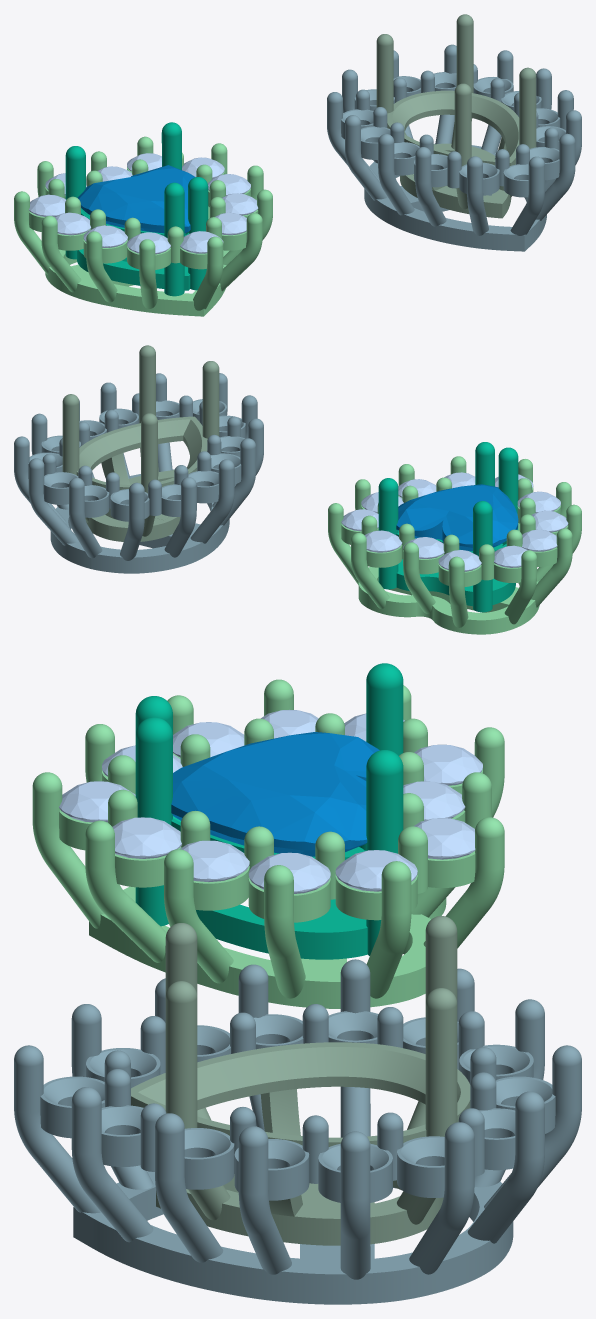
3 renders of one model, top to bottom at view 1: azimuth 30°, elevation 25°; view 2: azimuth 150°, elevation 25°; view 3: azimuth 270°, elevation 25°, orthographic. The views are drawn at different scales.
Visible parts, largest first — view 1: Untitled.3dm, Diamond_Round (×9), Diamond_Heart; view 2: Untitled.3dm, Diamond_Round (×9), Diamond_Heart; view 3: Untitled.3dm, Diamond_Heart, Diamond_Round (×10).
Boxes of the visible parts, box(x1,y1,x2,y2) form: Untitled.3dm: box(14, 14, 581, 316); Diamond_Round (×9): box(29, 157, 258, 254); Diamond_Heart: box(77, 165, 195, 233); Untitled.3dm: box(14, 345, 581, 634); Diamond_Round (×9): box(341, 479, 568, 571); Diamond_Heart: box(396, 484, 518, 551); Untitled.3dm: box(14, 663, 581, 1304); Diamond_Heart: box(171, 732, 379, 856); Diamond_Round (×10): box(59, 709, 482, 893).
Bounding box in the file's own units: 6.34 × 1.76 × 3.2.
